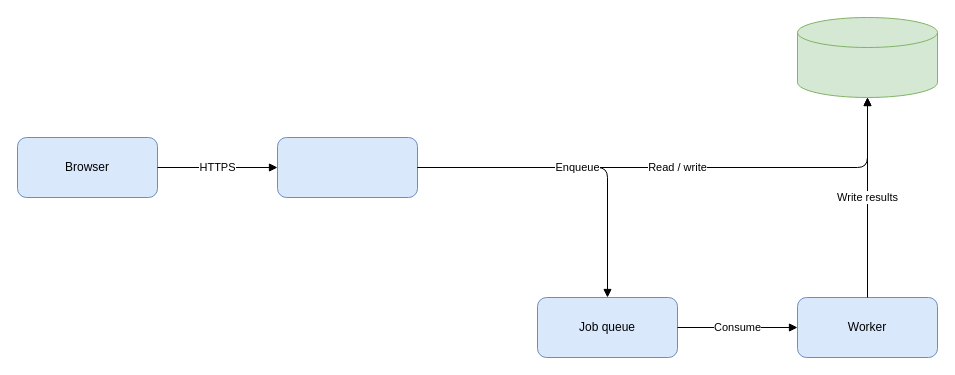
The diagram is 955 pixels wide and 375 high, and some of its shapes have lost their labels. Here are the shapes that lost their labels. From the top down, the centre of each, then its label:
the point at 867,57: Database
the point at 347,167: API
